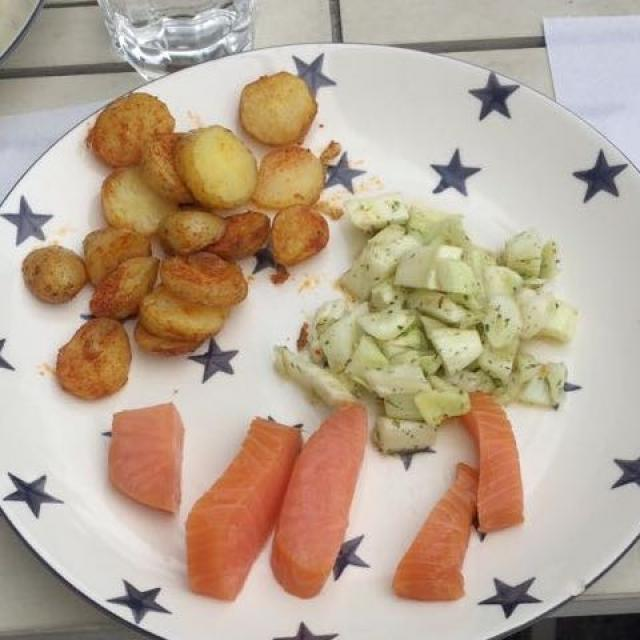cake: (292, 179, 578, 477)
potatoes: (23, 73, 338, 389)
salmon: (71, 394, 554, 594)
